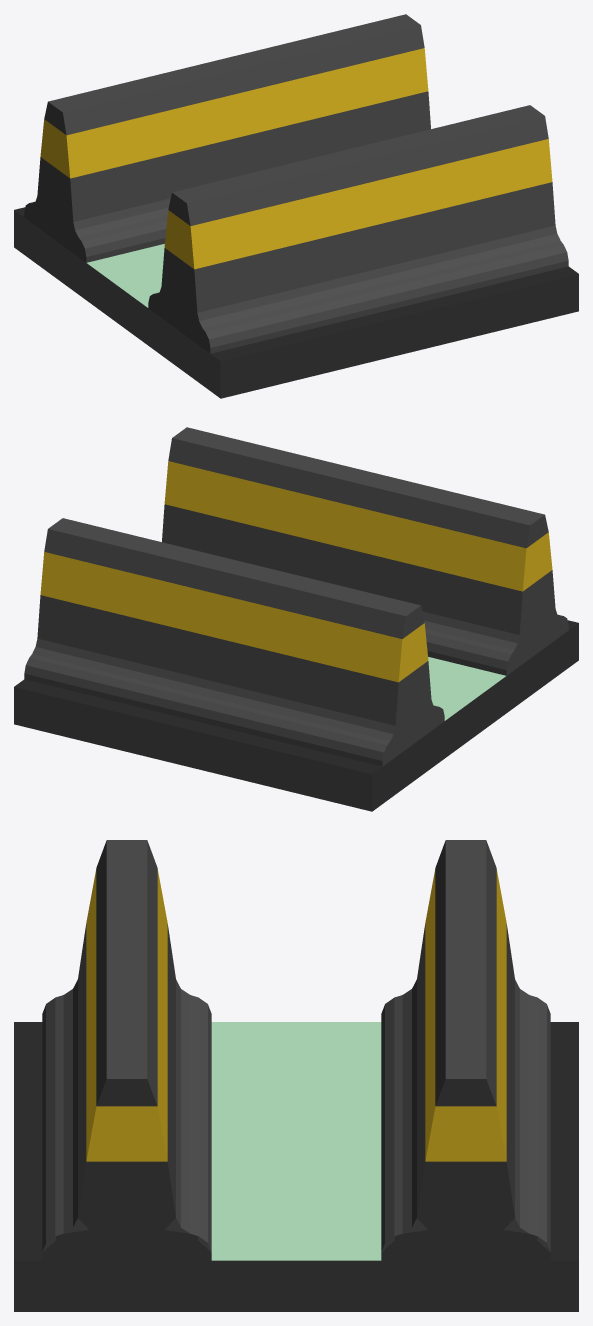
Rendered from road_separator.glb.
3 renders of one model, top to bottom at view 1: azimuth 30°, elevation 25°; view 2: azimuth 150°, elevation 25°; view 3: azimuth 270°, elevation 25°, orthographic. The views are drawn at different scales.
Parts seen in each view (by area): view 1: Road; view 2: Road; view 3: Road.
Boxes of the visible parts, x1,y1,x2,y2 form: Road: (14, 14, 578, 398); Road: (14, 427, 578, 811); Road: (14, 840, 578, 1311).
Bounding box in the file's own units: 1 × 0.4552 × 1.
